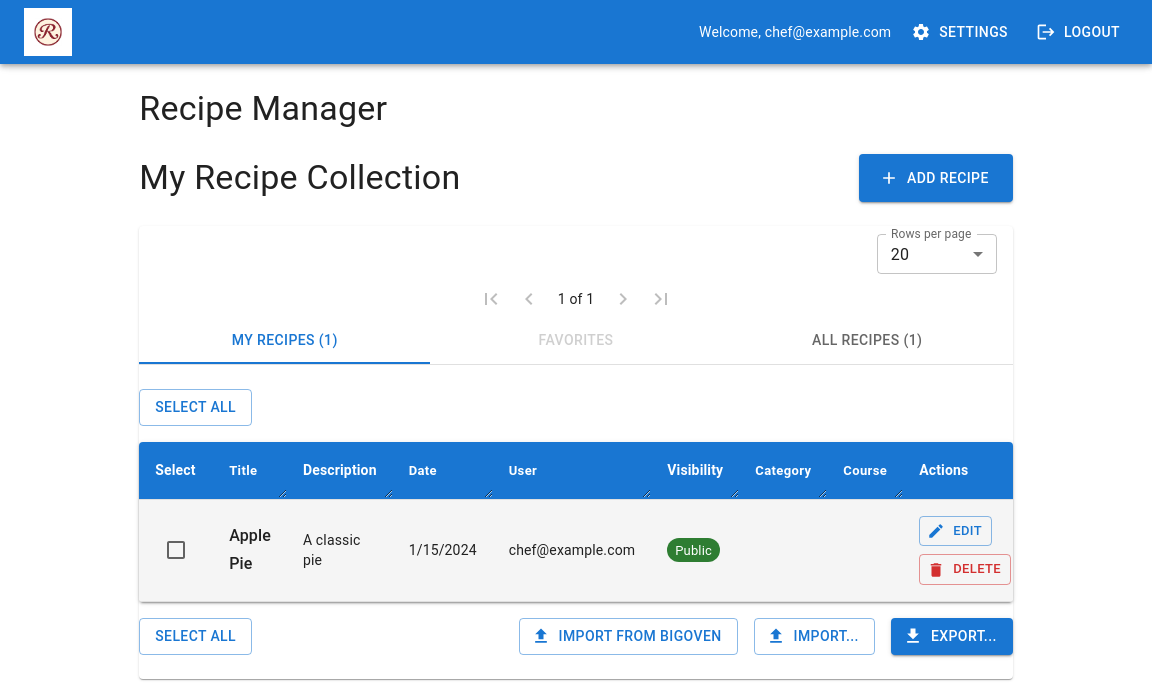
Test: HomePage page size › page size selector includes options 10, 20, 50, 100
Check: the heading "Apple Pie" is shown, box [229, 522, 271, 578]
Press the mouse on the dropdown named "rows per page" at x=900, y=254, box [891, 245, 909, 264]
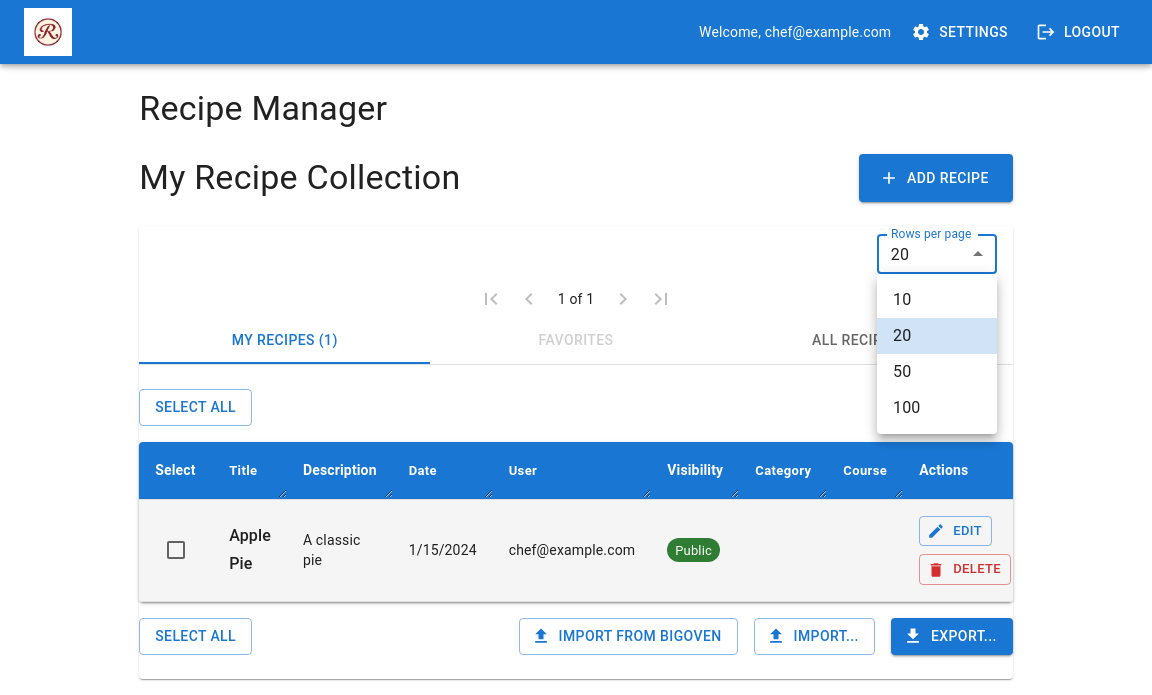
Check: the option "10" is shown, box [893, 290, 911, 309]
Check: the option "20" is shown, box [877, 318, 997, 354]
Check: the option "50" is shown, box [893, 362, 911, 381]
